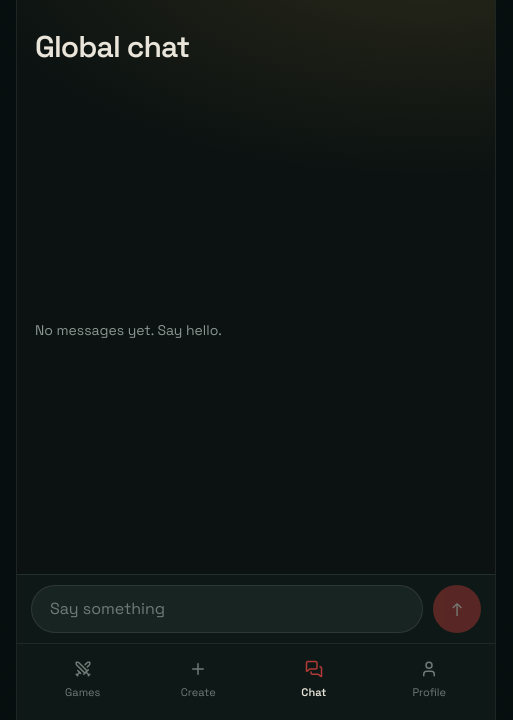
Scenario: a failed send shows the error as a toast that survives route changes
This screenshot has width=513, height=720.
In the dropdown named "Message": (227,609) [31,585,423,633], type "hello"
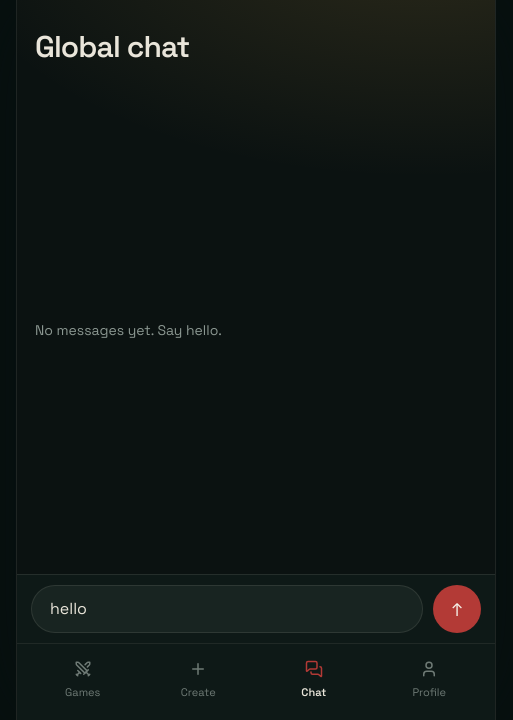
Click the button named "Send message": (457,609) [433,585,481,633]
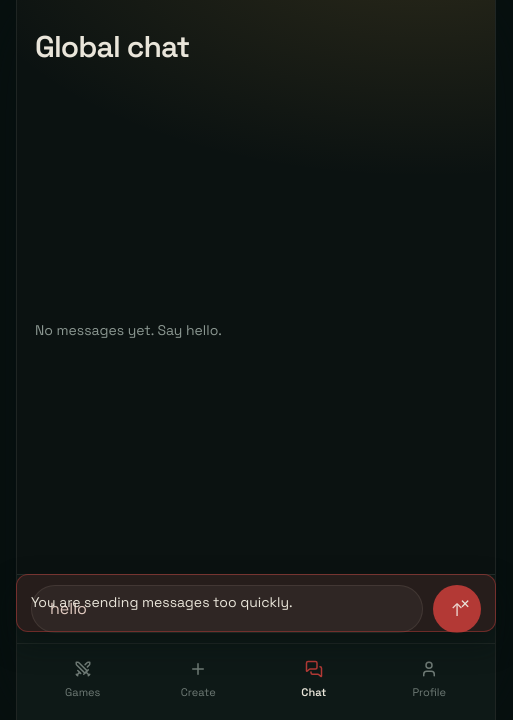
Expected: the text "You are sending messages too quickly." is shown, [31,593,293,611]
Click the button "Games": (83,680) [25,652,140,708]
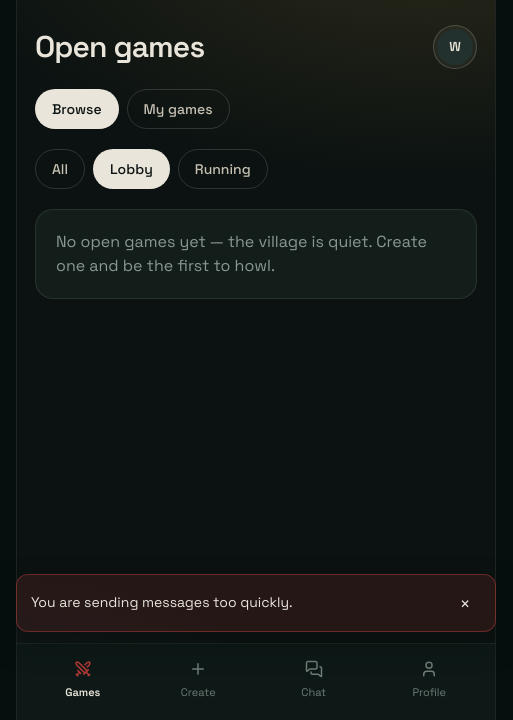
Expected: the heading "Open games" is shown, [35,24,204,69]
Click the button "Chat": (314,680) [256,652,372,708]
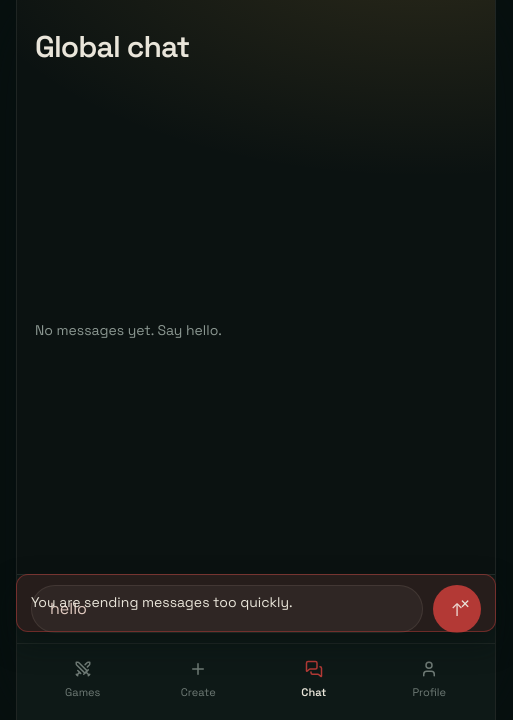
Expected: the text "You are sending messages too quickly." is shown, [31,593,293,611]
Expected: the heading "Global chat" is shown, [35,27,189,66]
